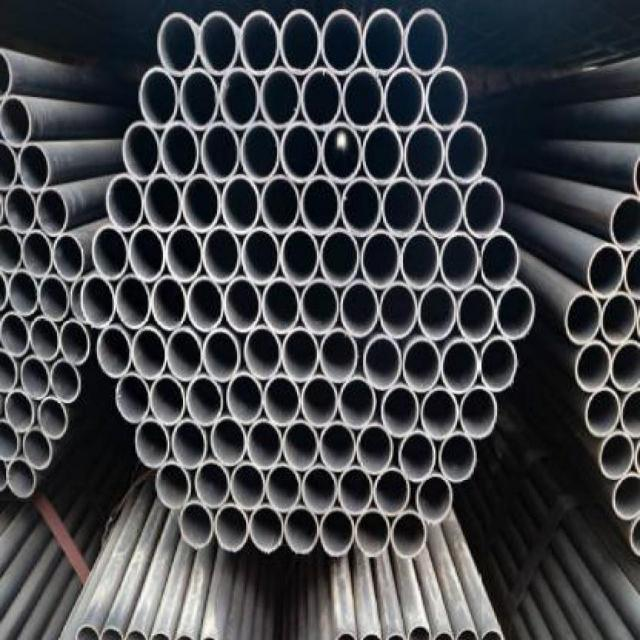pipe: (362, 9, 404, 75), (278, 9, 320, 75), (405, 9, 447, 75), (238, 10, 279, 77), (320, 9, 362, 74), (157, 13, 199, 78), (426, 66, 468, 131), (383, 68, 425, 133), (341, 68, 383, 131), (445, 123, 488, 184), (279, 122, 321, 184), (361, 123, 403, 185), (258, 67, 300, 128), (218, 68, 260, 129), (321, 122, 363, 183), (462, 179, 504, 239), (199, 12, 239, 75), (404, 124, 444, 186), (340, 178, 382, 237), (179, 68, 218, 131), (300, 68, 340, 129), (138, 68, 178, 129), (240, 122, 280, 183), (200, 122, 240, 183), (221, 174, 260, 236), (160, 122, 199, 184), (382, 178, 422, 238), (422, 179, 462, 239), (441, 231, 480, 292), (122, 120, 161, 181), (300, 176, 340, 235), (400, 231, 440, 290), (143, 173, 182, 232), (261, 175, 300, 234), (202, 225, 241, 284), (280, 227, 319, 286), (319, 229, 359, 286), (362, 230, 400, 289), (182, 175, 221, 232), (241, 228, 280, 285), (480, 233, 519, 290), (261, 278, 300, 334), (301, 279, 340, 335), (379, 282, 417, 339), (418, 283, 456, 340), (457, 285, 495, 342), (496, 286, 536, 340), (479, 337, 519, 391), (319, 328, 358, 383), (340, 281, 378, 337), (165, 226, 202, 283), (224, 276, 261, 333), (586, 244, 625, 298), (564, 292, 603, 346), (403, 337, 441, 392), (106, 176, 143, 232), (187, 277, 224, 333), (363, 336, 401, 390), (282, 327, 319, 382), (441, 340, 478, 395), (151, 275, 187, 331), (339, 377, 377, 430), (380, 385, 418, 438), (420, 388, 458, 441), (92, 226, 129, 280), (114, 276, 151, 330), (600, 291, 637, 345), (244, 326, 281, 379), (203, 328, 240, 381), (575, 341, 612, 394), (301, 376, 338, 429), (81, 276, 117, 329), (97, 326, 133, 379), (227, 372, 263, 425), (130, 228, 165, 282), (460, 387, 497, 438), (399, 432, 436, 483), (439, 433, 477, 482), (167, 328, 202, 381), (319, 422, 356, 472), (283, 421, 319, 472), (186, 376, 223, 425), (263, 376, 300, 425), (210, 417, 247, 466), (373, 467, 410, 516), (132, 327, 166, 380), (357, 424, 392, 475), (416, 476, 453, 524), (609, 195, 640, 252), (585, 388, 621, 437), (17, 142, 51, 193), (115, 373, 149, 424), (151, 376, 185, 427), (598, 432, 634, 480), (301, 467, 337, 515), (391, 511, 427, 559), (172, 420, 207, 469), (194, 461, 229, 509), (338, 467, 373, 515), (249, 505, 284, 553), (248, 419, 282, 468), (0, 95, 32, 147), (355, 510, 390, 557), (135, 421, 169, 469), (265, 464, 299, 512), (214, 505, 248, 553), (320, 509, 354, 557), (52, 233, 85, 282), (156, 462, 190, 509), (231, 464, 265, 511), (179, 501, 213, 548), (610, 340, 640, 393), (285, 508, 319, 554), (37, 189, 68, 237), (23, 229, 54, 277), (0, 310, 31, 358), (5, 186, 36, 232), (9, 270, 40, 316), (29, 316, 60, 361), (59, 320, 90, 365), (39, 276, 69, 321), (612, 473, 640, 521), (19, 357, 50, 400), (49, 360, 80, 403), (37, 397, 68, 439), (4, 390, 34, 432), (23, 428, 52, 470), (7, 457, 36, 498), (0, 226, 22, 272), (620, 391, 639, 439), (0, 419, 20, 464), (0, 140, 17, 191), (624, 248, 640, 302), (0, 349, 18, 393), (0, 50, 14, 94), (99, 621, 124, 640), (76, 621, 99, 640), (408, 624, 431, 640), (482, 626, 505, 640), (124, 628, 149, 640), (457, 628, 480, 640), (332, 630, 359, 640), (147, 630, 172, 640), (433, 630, 454, 640), (385, 632, 407, 640), (359, 633, 382, 640)
